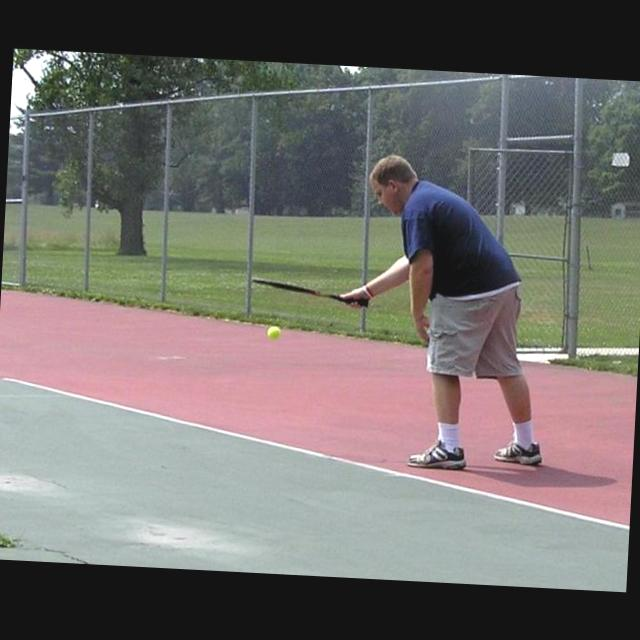Tennis Ball: (266, 324, 281, 340)
